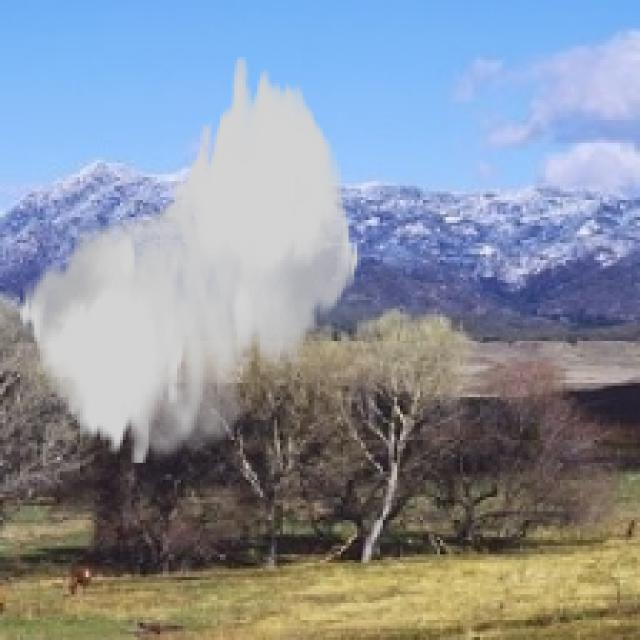smoke: (17, 57, 360, 466)
